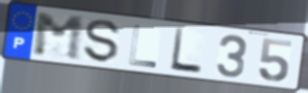3: (215, 33, 249, 79)
5: (257, 36, 294, 83)
L: (168, 26, 204, 76), (127, 23, 159, 70)
M: (32, 12, 85, 63)
S: (83, 18, 123, 65)
